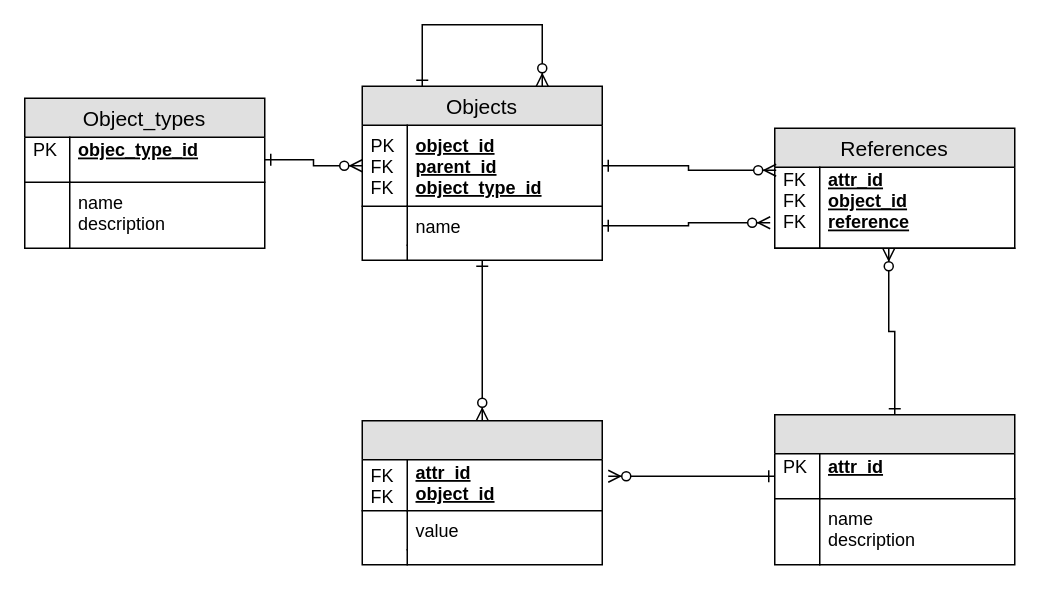
Image size: 1040x590. Some labels were removed from this diagram. The box of each missing label's shape, as (x1, y1, x2, y2) in pixels:
Attributes: (773, 413, 1015, 565)
Params: (361, 419, 602, 565)
